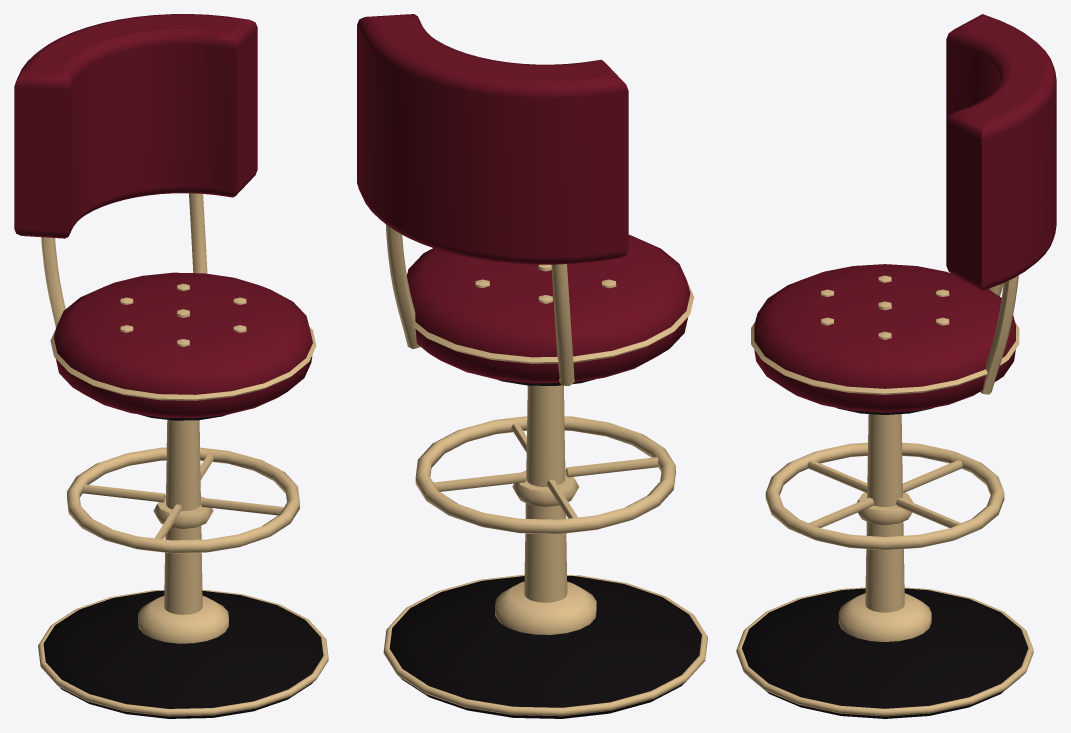
Rendered from stool.glb.
The picture shows the model from 3 angles, left to right: view 1: azimuth 30°, elevation 25°; view 2: azimuth 150°, elevation 25°; view 3: azimuth 270°, elevation 25°; orthographic projection. The views are drawn at different scales.
Visible parts, largest first — view 1: Back_seat, stool_seat, stool_brass, stool_lacquer, Back_brass; view 2: Back_seat, stool_brass, stool_lacquer, stool_seat, Back_brass; view 3: stool_seat, Back_seat, stool_brass, stool_lacquer, Back_brass.
Boxes of the visible parts, box(x1,y1,x2,y2) form: Back_seat: box(14, 14, 257, 238); stool_seat: box(54, 272, 312, 418); stool_brass: box(38, 283, 328, 716); stool_lacquer: box(43, 590, 323, 718); Back_brass: box(41, 193, 207, 327); Back_seat: box(357, 14, 628, 264); stool_brass: box(383, 264, 707, 716); stool_lacquer: box(389, 576, 701, 718); stool_seat: box(407, 234, 690, 383); Back_brass: box(385, 224, 574, 385); stool_seat: box(754, 264, 1015, 412); Back_seat: box(946, 14, 1056, 290); stool_brass: box(736, 275, 1033, 716); stool_lacquer: box(742, 588, 1028, 718); Back_brass: box(980, 275, 1018, 394).
Bounding box in the file's own units: 0.4474 × 0.978 × 0.4817.
